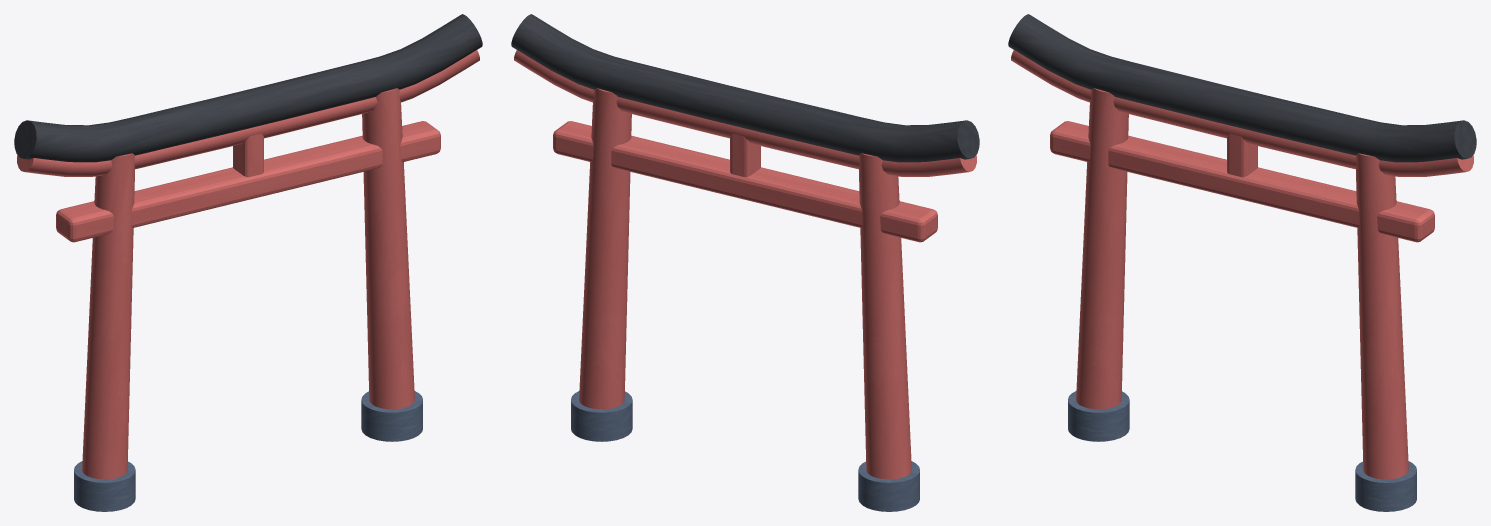
Rendered from torii.glb.
3 views of the same model, side by side, from view 1: azimuth 30°, elevation 25°; view 2: azimuth 150°, elevation 25°; view 3: azimuth 330°, elevation 25° (orthographic).
Parts seen in each view (by area): view 1: torii; view 2: torii; view 3: torii.
Boxes of the visible parts, box(x1,y1,x2,y2) form: torii: box(14, 14, 482, 511); torii: box(511, 14, 979, 511); torii: box(1008, 14, 1476, 511).
Size of the model in its own units: 4.61 by 3.81 by 0.54.
Materials: 1 (1 with a texture image).
